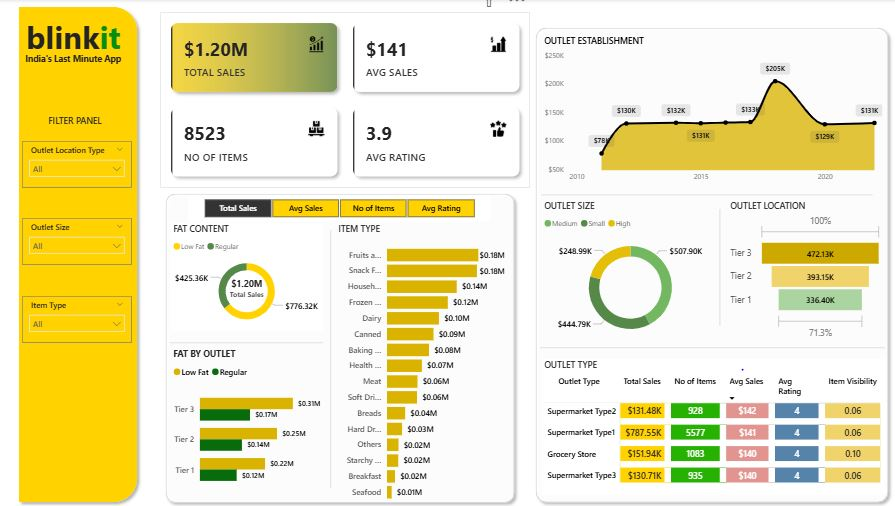

What the dashboard file says about the page in this screenshot:
{"tool":"powerbi","page":{"name":"Page 1","canvas":[1400,800],"ordinal":0},"visuals":[{"type":"shape","box":[20,20,200,780],"z":0},{"type":"textbox","box":[34.6,36.2,168.5,99.2],"z":1000},{"type":"textbox","box":[34.3,95.7,171.4,28.6],"z":2000},{"type":"cardVisual","fields":{"Data":["BlinkIT Grocery Data.Total Sales","BlinkIT Grocery Data.Avg Sales","BlinkIT Grocery Data.No of Items","BlinkIT Grocery Data.Avg Rating"]},"box":[245.7,37.1,570,270],"z":3000},{"type":"shape","box":[246,307,554,493],"z":4000},{"type":"donutChart","title":"FAT CONTENT","fields":{"Y":["BlinkIT Grocery Data.Total Sales"],"Category":["BlinkIT Grocery Data.Item Fat Content"]},"box":[261.2,361.2,235.8,165.7],"z":5000},{"type":"slicer","fields":{"Values":["Metrics.Metrics"]},"box":[289.9,319,464.6,40.5],"z":6000},{"type":"cardVisual","fields":{"Data":["BlinkIT Grocery Data.Total Sales"]},"box":[317.9,429.9,122.4,64.2],"z":7000},{"type":"clusteredBarChart","title":"FAT BY OUTLET","fields":{"Y":["BlinkIT Grocery Data.Total Sales"],"Category":["BlinkIT Grocery Data.Outlet Location Type"],"Series":["BlinkIT Grocery Data.Item Fat Content"]},"box":[261.1,553.3,236.7,230],"z":8000},{"type":"shape","box":[261.4,520,235.7,51.4],"z":9000},{"type":"shape","box":[451.8,372.7,112.7,397.3],"z":10000},{"type":"barChart","title":"ITEM TYPE","fields":{"Y":["BlinkIT Grocery Data.Total Sales"],"Category":["BlinkIT Grocery Data.Item Type"]},"box":[515,361.2,266.2,438.8],"z":11000},{"type":"shape","box":[816,52,560,748],"z":12000},{"type":"lineChart","title":"OUTLET ESTABLISHMENT","fields":{"Y":["BlinkIT Grocery Data.Total Sales"],"Category":["BlinkIT Grocery Data.Outlet Establishment Year"]},"box":[832,72,530,236],"z":13000},{"type":"shape","box":[831.7,291.7,510,51.7],"z":14000},{"type":"donutChart","title":"OUTLET SIZE","fields":{"Y":["BlinkIT Grocery Data.Total Sales"],"Category":["BlinkIT Grocery Data.Outlet Size"]},"box":[831.7,326.7,275,225],"z":15000},{"type":"shape","box":[1050,340,113.3,180],"z":16000},{"type":"funnel","title":"OUTLET LOCATION","fields":{"Y":["Sum(BlinkIT Grocery Data.Sales)"],"Category":["BlinkIT Grocery Data.Outlet Location Type"]},"box":[1118.3,326.7,243.3,218.3],"z":17000},{"type":"shape","box":[831.2,527.5,530,51.2],"z":18000},{"type":"pivotTable","title":"OUTLET TYPE","fields":{"Rows":["BlinkIT Grocery Data.Outlet Type"],"Values":["BlinkIT Grocery Data.Total Sales","BlinkIT Grocery Data.No of Items","BlinkIT Grocery Data.Avg Sales","BlinkIT Grocery Data.Avg Rating","Avg(BlinkIT Grocery Data.Item Visibility)"]},"box":[832.5,571.2,530,208.8],"z":19000},{"type":"slicer","fields":{"Values":["BlinkIT Grocery Data.Outlet Location Type"]},"box":[34.3,235.8,168.7,71.6],"z":20000},{"type":"slicer","fields":{"Values":["BlinkIT Grocery Data.Outlet Size"]},"box":[34.3,353.7,168.7,71.6],"z":21000},{"type":"slicer","fields":{"Values":["BlinkIT Grocery Data.Item Type"]},"box":[34.3,473.1,168.7,71.6],"z":22000},{"type":"textbox","box":[69.2,190.8,98.5,29.2],"z":23000}]}

Visuals, with their boxes in screenshot pixels (x1, y1, x2, y2), scaled from the page's 1400x800 canvas onto the 895x506 screenshot:
shape: {"left": 13, "top": 13, "right": 141, "bottom": 505}
textbox: {"left": 22, "top": 23, "right": 130, "bottom": 86}
textbox: {"left": 22, "top": 61, "right": 132, "bottom": 79}
cardVisual - BlinkIT Grocery Data.Total Sales x BlinkIT Grocery Data.Avg Sales: {"left": 157, "top": 23, "right": 521, "bottom": 194}
shape: {"left": 157, "top": 194, "right": 511, "bottom": 505}
"FAT CONTENT" donutChart: {"left": 167, "top": 228, "right": 318, "bottom": 333}
slicer - Metrics.Metrics: {"left": 185, "top": 202, "right": 482, "bottom": 227}
cardVisual - BlinkIT Grocery Data.Total Sales: {"left": 203, "top": 272, "right": 281, "bottom": 313}
"FAT BY OUTLET" clusteredBarChart: {"left": 167, "top": 350, "right": 318, "bottom": 495}
shape: {"left": 167, "top": 329, "right": 318, "bottom": 361}
shape: {"left": 289, "top": 236, "right": 361, "bottom": 487}
"ITEM TYPE" barChart: {"left": 329, "top": 228, "right": 499, "bottom": 505}
shape: {"left": 522, "top": 33, "right": 880, "bottom": 505}
"OUTLET ESTABLISHMENT" lineChart: {"left": 532, "top": 46, "right": 871, "bottom": 195}
shape: {"left": 532, "top": 185, "right": 858, "bottom": 217}
"OUTLET SIZE" donutChart: {"left": 532, "top": 207, "right": 707, "bottom": 349}
shape: {"left": 671, "top": 215, "right": 744, "bottom": 329}
"OUTLET LOCATION" funnel: {"left": 715, "top": 207, "right": 870, "bottom": 345}
shape: {"left": 531, "top": 334, "right": 870, "bottom": 366}
"OUTLET TYPE" pivotTable: {"left": 532, "top": 361, "right": 871, "bottom": 493}
slicer - BlinkIT Grocery Data.Outlet Location Type: {"left": 22, "top": 149, "right": 130, "bottom": 194}
slicer - BlinkIT Grocery Data.Outlet Size: {"left": 22, "top": 224, "right": 130, "bottom": 269}
slicer - BlinkIT Grocery Data.Item Type: {"left": 22, "top": 299, "right": 130, "bottom": 345}
textbox: {"left": 44, "top": 121, "right": 107, "bottom": 139}
